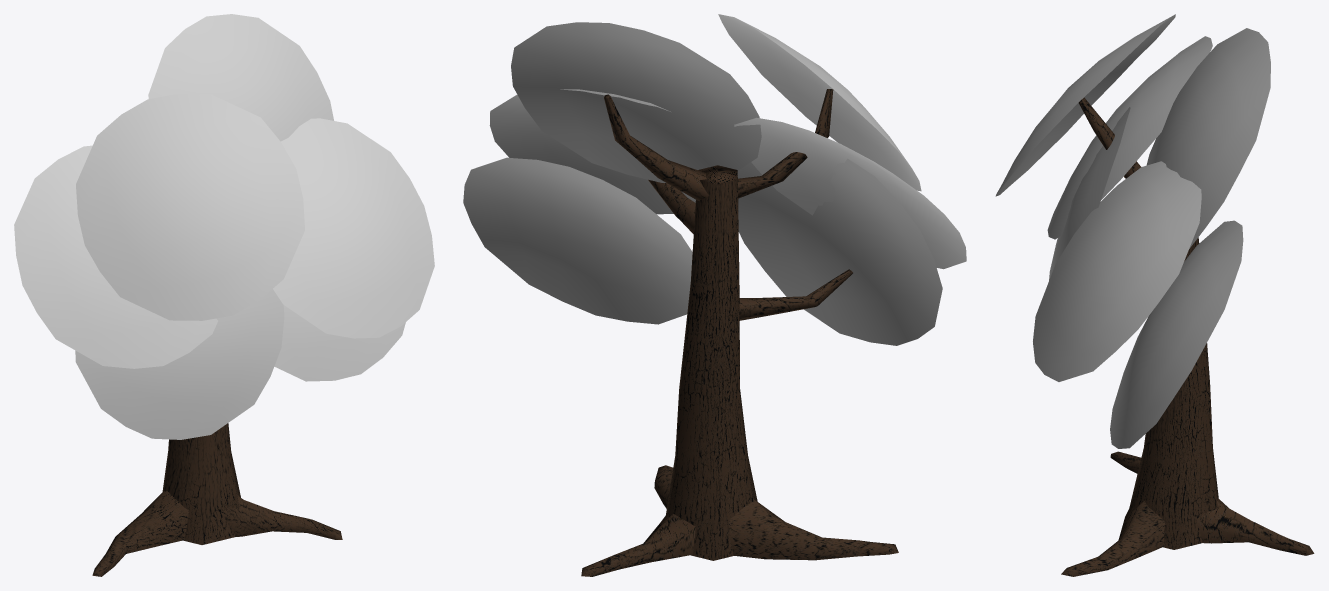
Rendered from littletree3fbx.fbx.
The picture shows the model from 3 angles, left to right: view 1: azimuth 30°, elevation 25°; view 2: azimuth 150°, elevation 25°; view 3: azimuth 270°, elevation 25°; orthographic projection. The views are drawn at different scales.
Visible parts, largest first — view 1: pPlane7, pPlane2, pPlane1, pPlane6, pPlane5, pCylinder1, pPlane3, pCylinder3, pCylinder7; view 2: pPlane5, pPlane3, pPlane6, pCylinder1, pPlane1, pPlane7, pPlane2, pCylinder3, pCylinder2, pCylinder5, pCylinder8, pCylinder6 (+1 smaller); view 3: pPlane2, pPlane5, pPlane3, pCylinder1, pPlane1, pPlane7, pCylinder7, pCylinder2, pPlane6, pCylinder6.
Part boxes in pixels (bbox=[...]): pPlane7: bbox=[76, 93, 304, 320]; pPlane2: bbox=[273, 118, 434, 338]; pPlane1: bbox=[14, 145, 217, 368]; pPlane6: bbox=[75, 289, 284, 439]; pPlane5: bbox=[148, 14, 333, 141]; pCylinder1: bbox=[162, 423, 240, 544]; pPlane3: bbox=[274, 305, 405, 381]; pCylinder3: bbox=[92, 490, 188, 576]; pCylinder7: bbox=[220, 495, 342, 539]; pPlane5: bbox=[511, 22, 761, 182]; pPlane3: bbox=[463, 157, 692, 324]; pPlane6: bbox=[737, 158, 942, 345]; pCylinder1: bbox=[666, 165, 757, 560]; pPlane1: bbox=[734, 117, 966, 269]; pPlane7: bbox=[718, 14, 921, 191]; pPlane2: bbox=[489, 89, 695, 214]; pCylinder3: bbox=[728, 498, 898, 560]; pCylinder2: bbox=[581, 512, 695, 576]; pCylinder5: bbox=[604, 94, 708, 201]; pCylinder8: bbox=[739, 269, 852, 320]; pCylinder6: bbox=[737, 89, 833, 198]; pPlane2: bbox=[1033, 161, 1201, 381]; pPlane5: bbox=[1146, 28, 1270, 248]; pPlane3: bbox=[1110, 220, 1243, 448]; pCylinder1: bbox=[1129, 237, 1218, 549]; pPlane1: bbox=[1047, 36, 1212, 239]; pPlane7: bbox=[995, 14, 1175, 196]; pCylinder7: bbox=[1061, 499, 1165, 576]; pCylinder2: bbox=[1196, 498, 1314, 555]; pPlane6: bbox=[1049, 107, 1130, 280]; pCylinder6: bbox=[1078, 97, 1140, 178].
Size of the model in its own units: 13.38 by 14.64 by 8.29.
